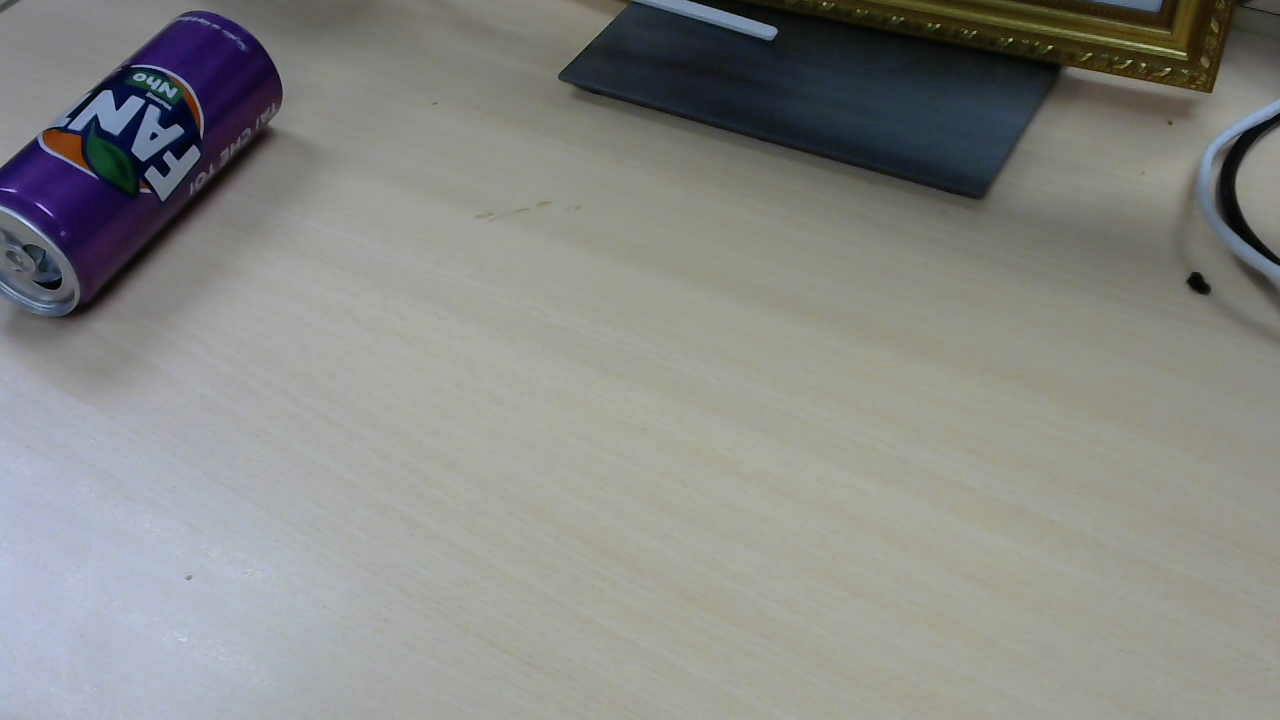Fanta: (6, 14, 289, 323)
